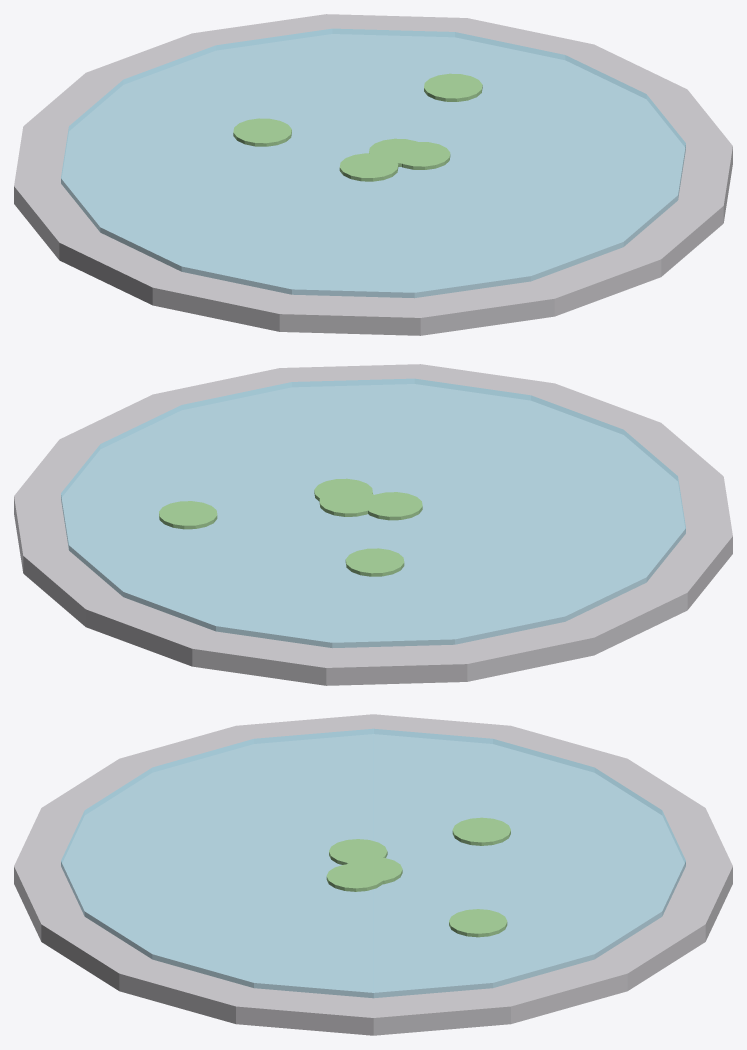
Rendered from Pond.glb.
The picture shows the model from 3 angles, top to bottom: view 1: azimuth 30°, elevation 25°; view 2: azimuth 150°, elevation 25°; view 3: azimuth 270°, elevation 25°; orthographic projection.
Visible parts, largest first — view 1: Pond_2, Pond_1, Pond_0; view 2: Pond_2, Pond_1, Pond_0; view 3: Pond_2, Pond_1, Pond_0.
Boxes of the visible parts, bbox=[...] form: Pond_2: bbox=[14, 14, 732, 335]; Pond_1: bbox=[61, 28, 685, 298]; Pond_0: bbox=[233, 73, 482, 181]; Pond_2: bbox=[14, 364, 732, 685]; Pond_1: bbox=[61, 378, 685, 648]; Pond_0: bbox=[159, 478, 422, 576]; Pond_2: bbox=[14, 714, 732, 1035]; Pond_1: bbox=[61, 728, 685, 998]; Pond_0: bbox=[326, 817, 510, 937].
Bounding box in the file's own units: 18.4 × 0.75 × 18.4.
